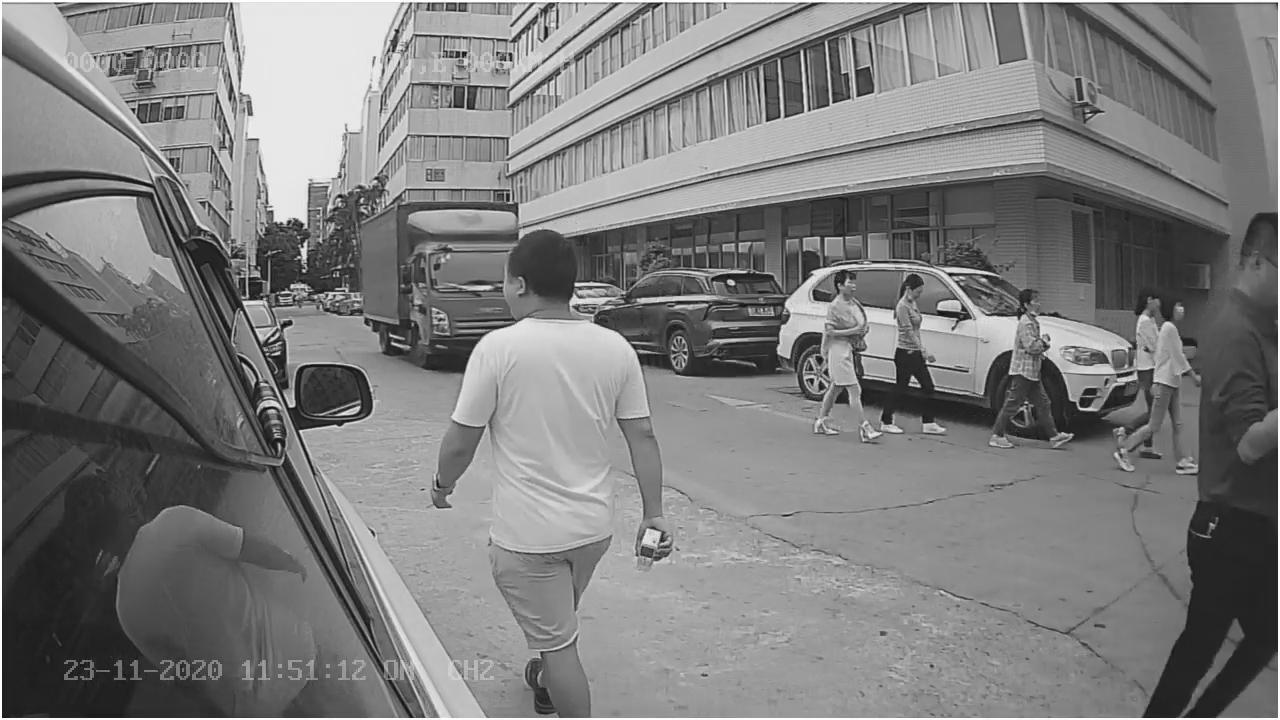person: (980, 276, 1075, 454), (808, 267, 883, 443)
